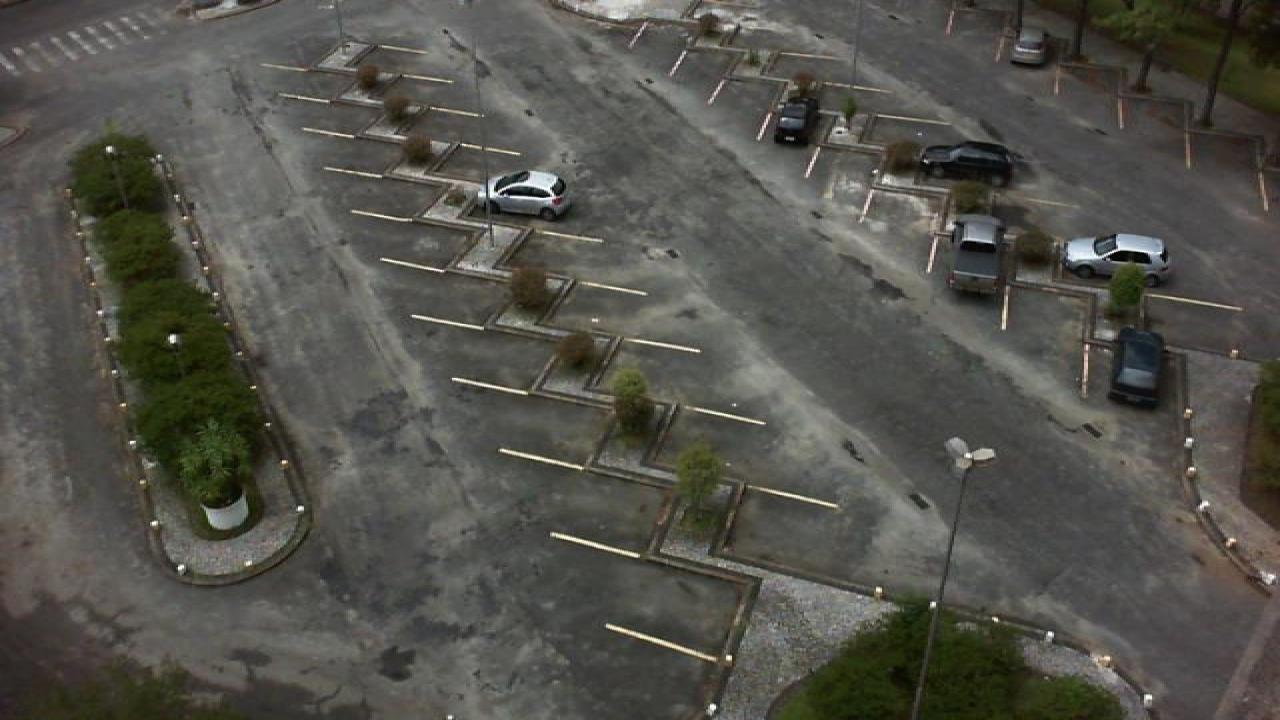Car: (1060, 232, 1172, 284), (942, 213, 1008, 298), (1106, 325, 1170, 406), (482, 170, 572, 219), (916, 140, 1016, 184), (772, 96, 820, 145), (1008, 28, 1050, 66)
